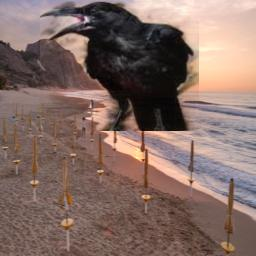Crow: (40, 1, 199, 131)
